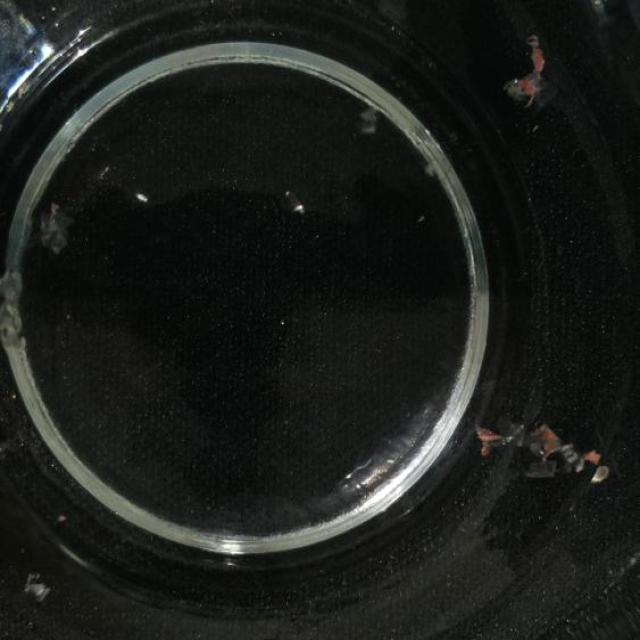fiber: (476, 414, 612, 498), (503, 36, 554, 109), (0, 264, 30, 349), (41, 206, 74, 257), (18, 574, 54, 606), (359, 100, 380, 146), (286, 182, 307, 224), (135, 192, 153, 203)
